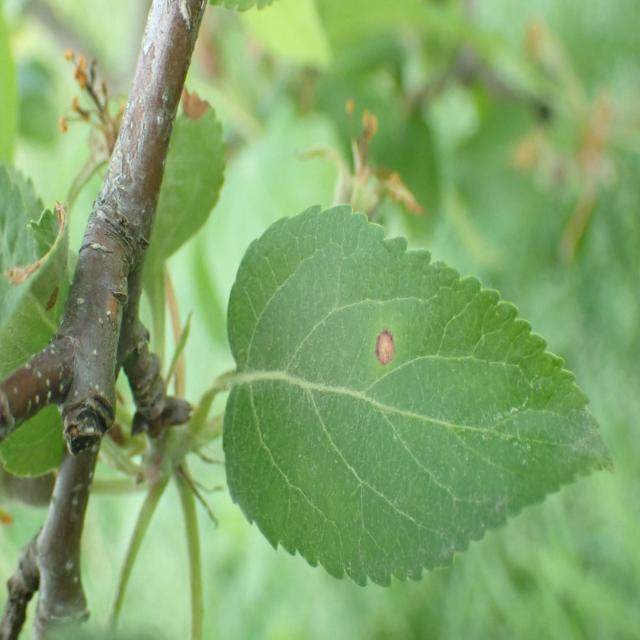frog-eye-leaf-spot: (222, 203, 616, 589)
